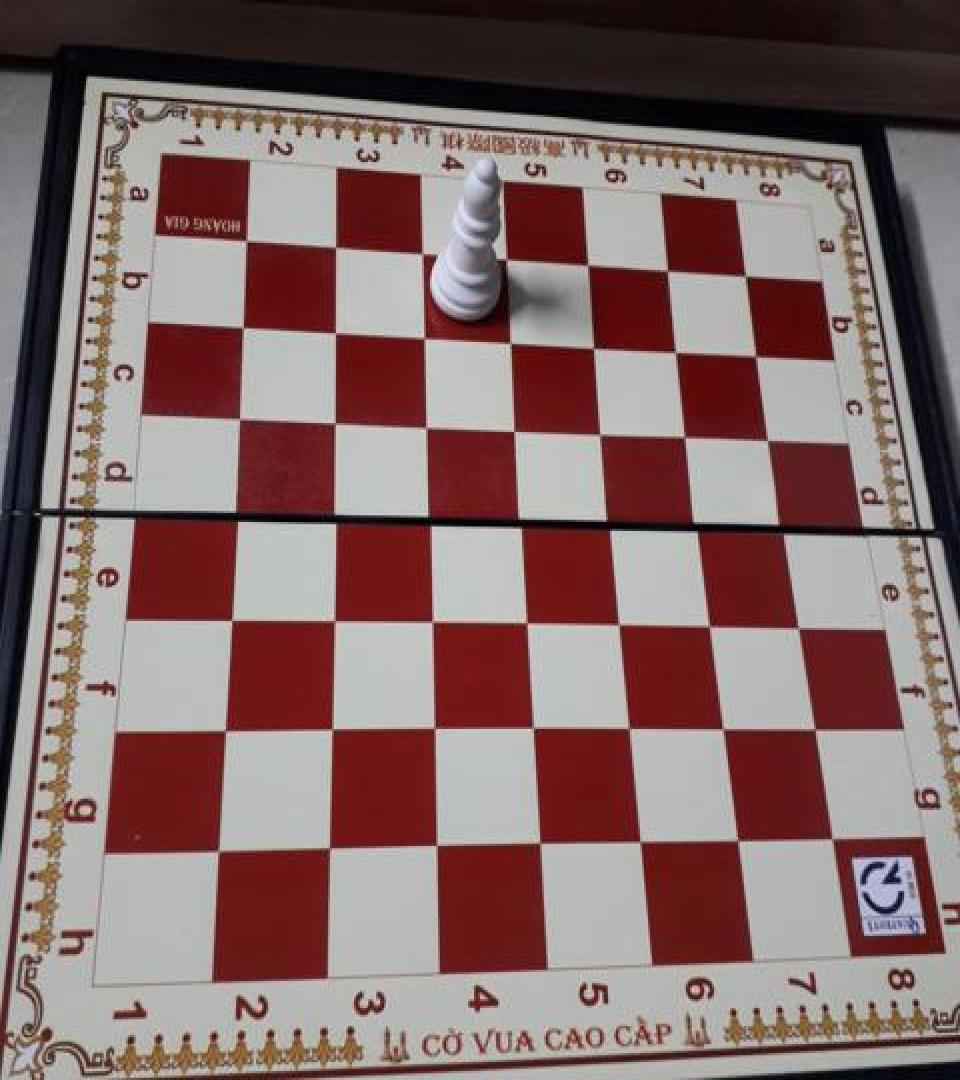xcorner: (728, 253, 764, 294), (571, 244, 607, 285), (319, 228, 355, 269), (407, 316, 443, 357), (227, 307, 263, 348), (754, 415, 790, 456), (499, 406, 535, 447), (768, 505, 804, 546), (412, 497, 448, 538), (316, 597, 352, 638), (214, 597, 250, 638), (799, 703, 835, 744), (708, 704, 744, 745), (614, 704, 650, 745), (517, 705, 553, 746), (816, 812, 852, 853), (524, 821, 560, 862), (203, 830, 239, 871), (651, 249, 687, 289), (489, 239, 525, 279), (405, 234, 441, 274), (231, 223, 267, 263), (741, 332, 777, 372), (661, 329, 697, 369), (579, 324, 615, 364), (494, 320, 530, 360), (318, 312, 354, 352), (671, 413, 707, 453), (587, 410, 623, 450), (410, 403, 446, 443), (318, 401, 354, 441), (223, 396, 259, 436), (683, 503, 719, 543), (595, 501, 631, 541), (505, 500, 541, 540), (317, 495, 353, 535), (219, 493, 255, 533), (783, 601, 819, 641), (695, 600, 731, 640), (604, 600, 640, 640), (511, 599, 547, 639), (415, 599, 451, 639), (418, 707, 454, 747), (315, 708, 351, 748), (209, 709, 245, 749), (722, 816, 758, 856), (625, 818, 661, 858), (421, 825, 457, 865), (314, 827, 350, 867)
